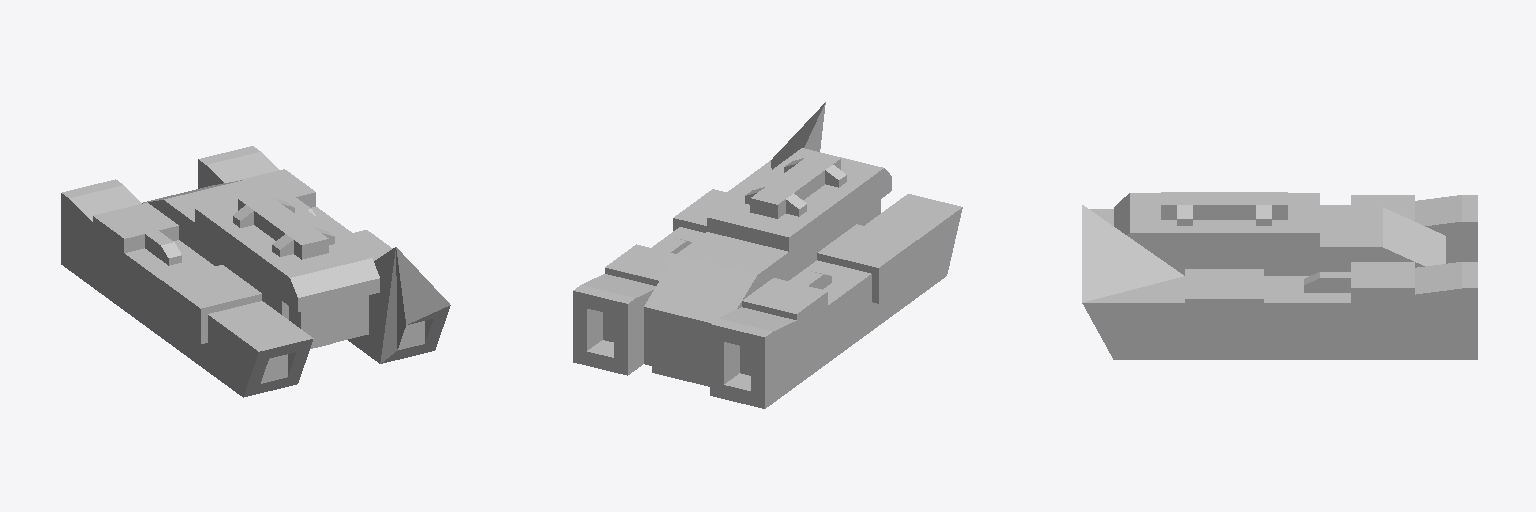
File: craft_cargoB_center.obj
The picture shows the model from 3 angles: view 1: azimuth 30°, elevation 25°; view 2: azimuth 150°, elevation 25°; view 3: azimuth 270°, elevation 25°; orthographic projection.
Visible parts, largest first — view 1: craft_cargoB; view 2: craft_cargoB; view 3: craft_cargoB.
Boxes of the visible parts, x1=… form: craft_cargoB: x1=61, y1=146, x2=450, y2=397; craft_cargoB: x1=573, y1=102, x2=962, y2=408; craft_cargoB: x1=1082, y1=192, x2=1477, y2=359.
Size of the model in its own units: 1.5 by 1 by 2.5.